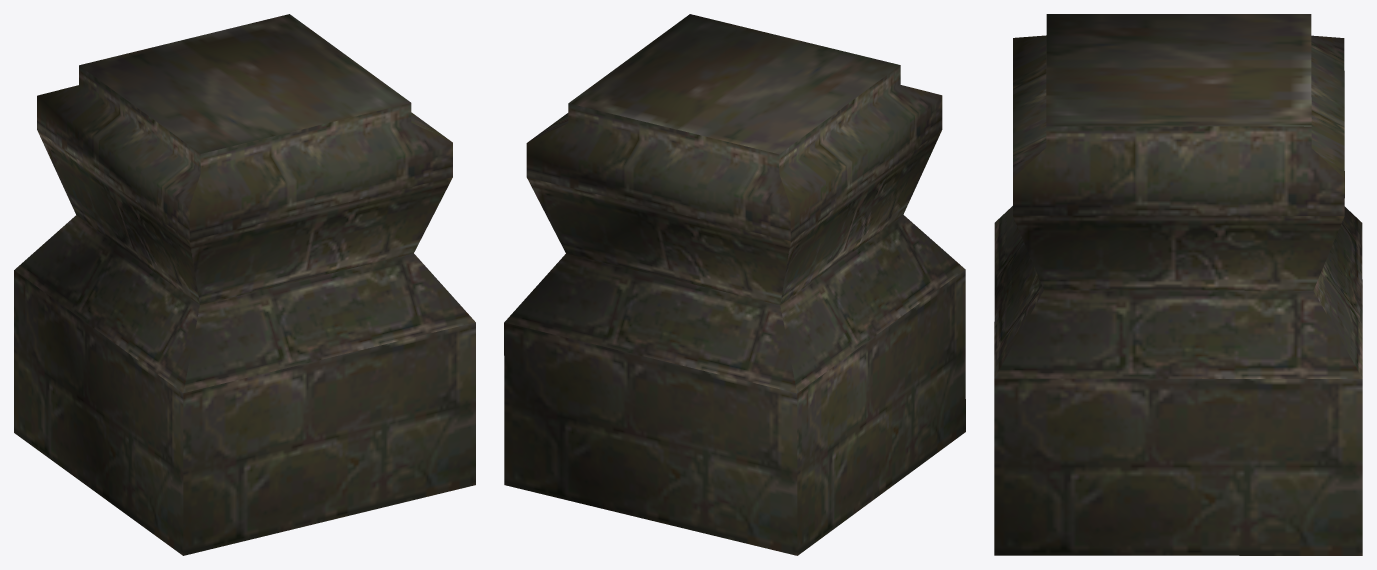
Rendered from S_Build_Forest067.FBX.
3 renders of one model, left to right at view 1: azimuth 30°, elevation 25°; view 2: azimuth 150°, elevation 25°; view 3: azimuth 270°, elevation 25°, orthographic. The views are drawn at different scales.
Visible parts, largest first — view 1: S_Build_Forest067; view 2: S_Build_Forest067; view 3: S_Build_Forest067.
Boxes of the visible parts, x1=… form: S_Build_Forest067: x1=14, y1=14, x2=475, y2=555; S_Build_Forest067: x1=504, y1=14, x2=965, y2=555; S_Build_Forest067: x1=994, y1=14, x2=1362, y2=555.
Bounding box in the file's own units: 270 × 270 × 331.
